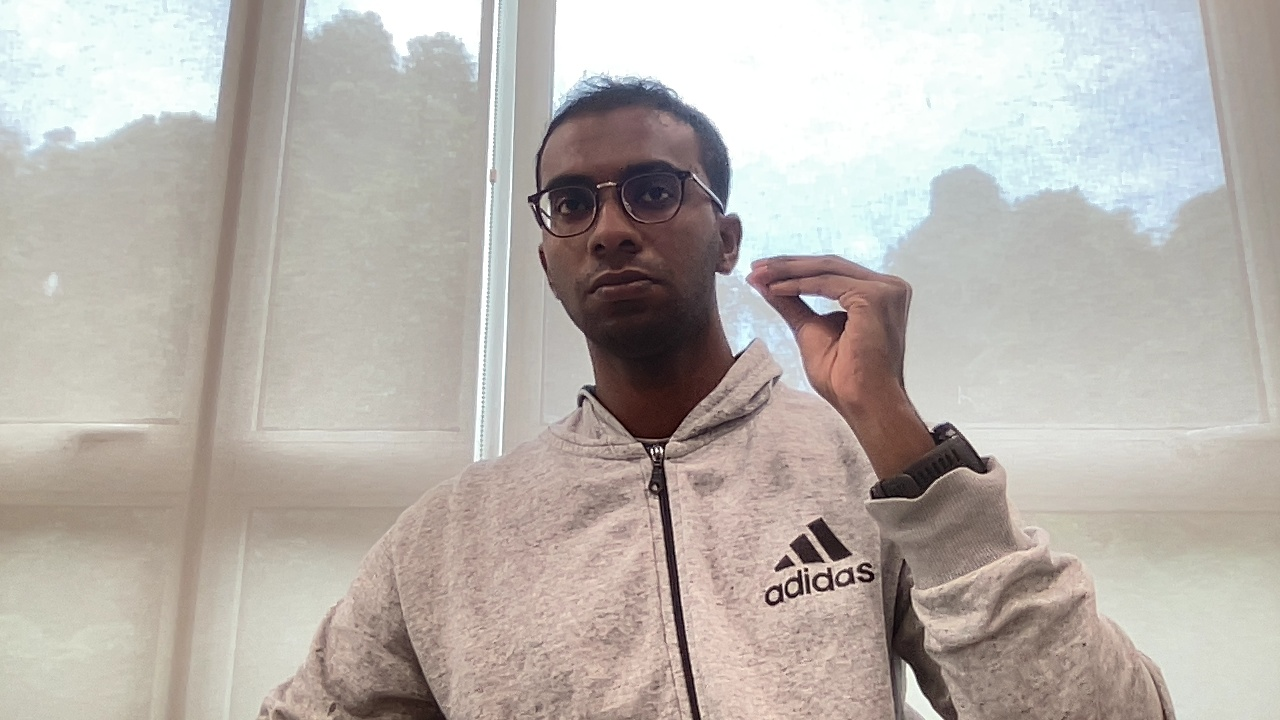eat: (743, 250, 928, 426)
